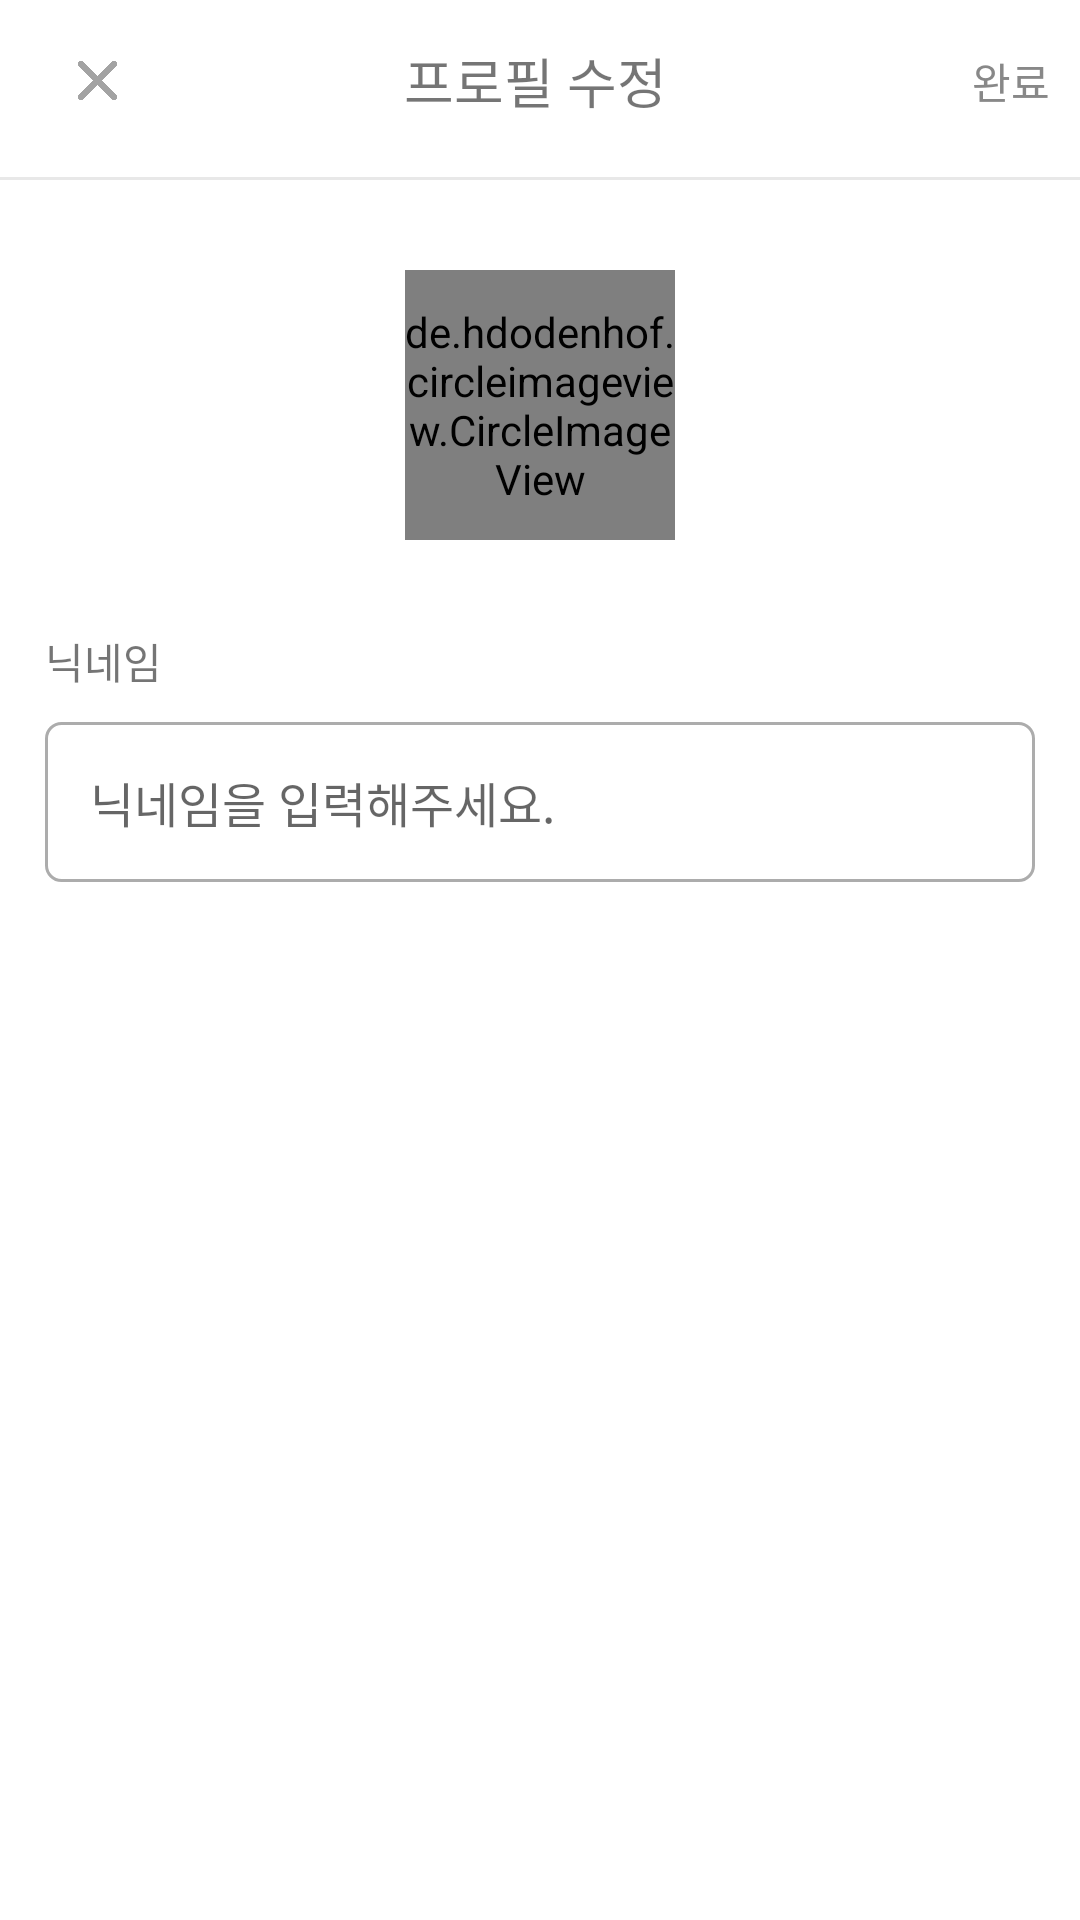

Where to tap for icons on this 1080px x 1920px app screen, as (x,y):
cross: (97,80)
